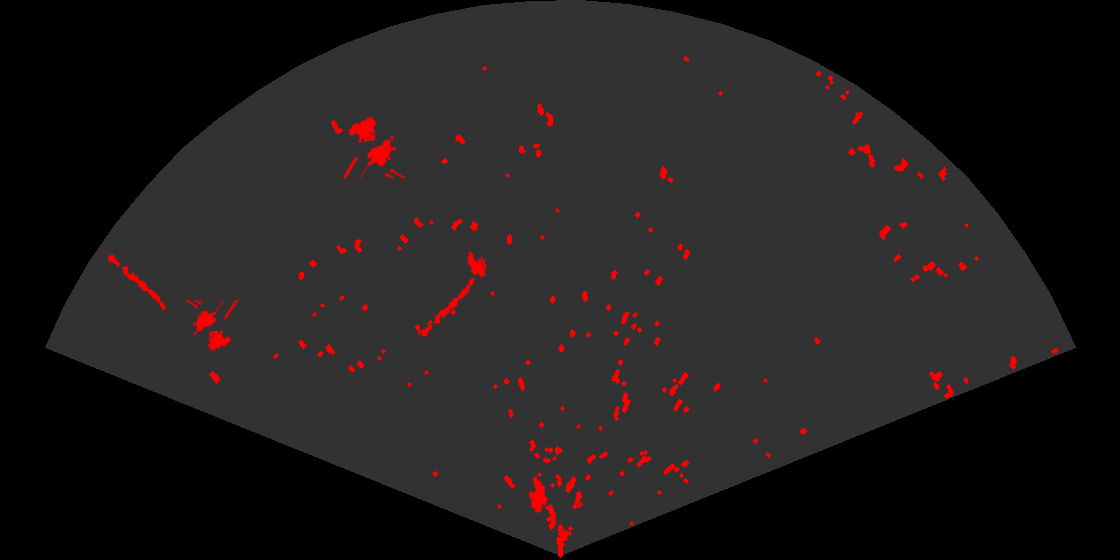AUV: (527, 474, 550, 515), (465, 249, 488, 279)
cage: (341, 115, 408, 178), (183, 300, 241, 353)
chain: (413, 276, 476, 347), (101, 247, 168, 312)
